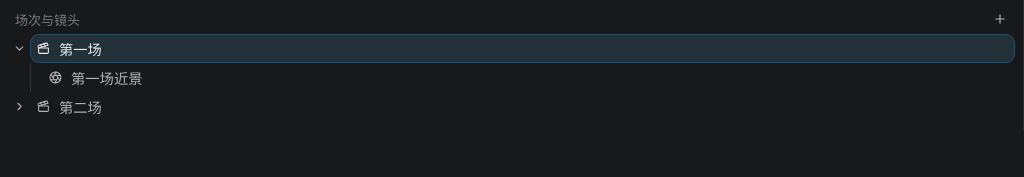
scene and shot directory › keeps an already expanded neighboring scene collapsed when its title is selected
Click the button named "展开第二场" at [19, 106], box [8, 92, 30, 120]
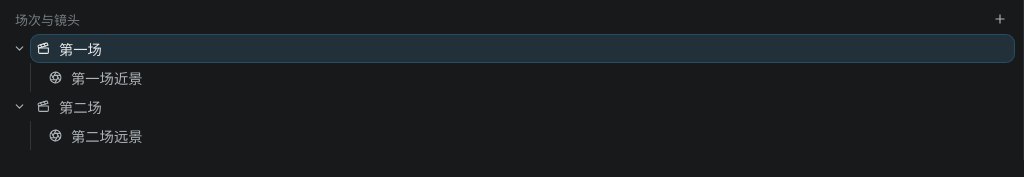
expect the button "第二场远景" is shown: met, box [31, 121, 1015, 150]
Click the button "第二场" at [80, 108], box [30, 92, 1015, 121]
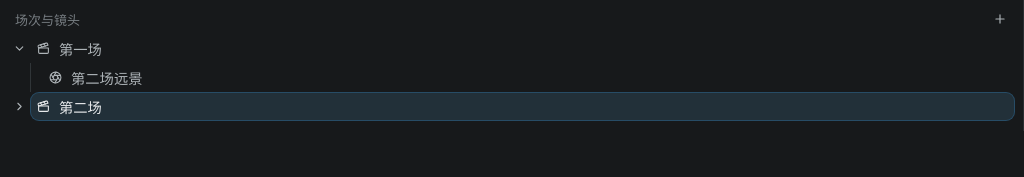
expect the button "第二场" is collapsed: met, box [30, 92, 1015, 121]
